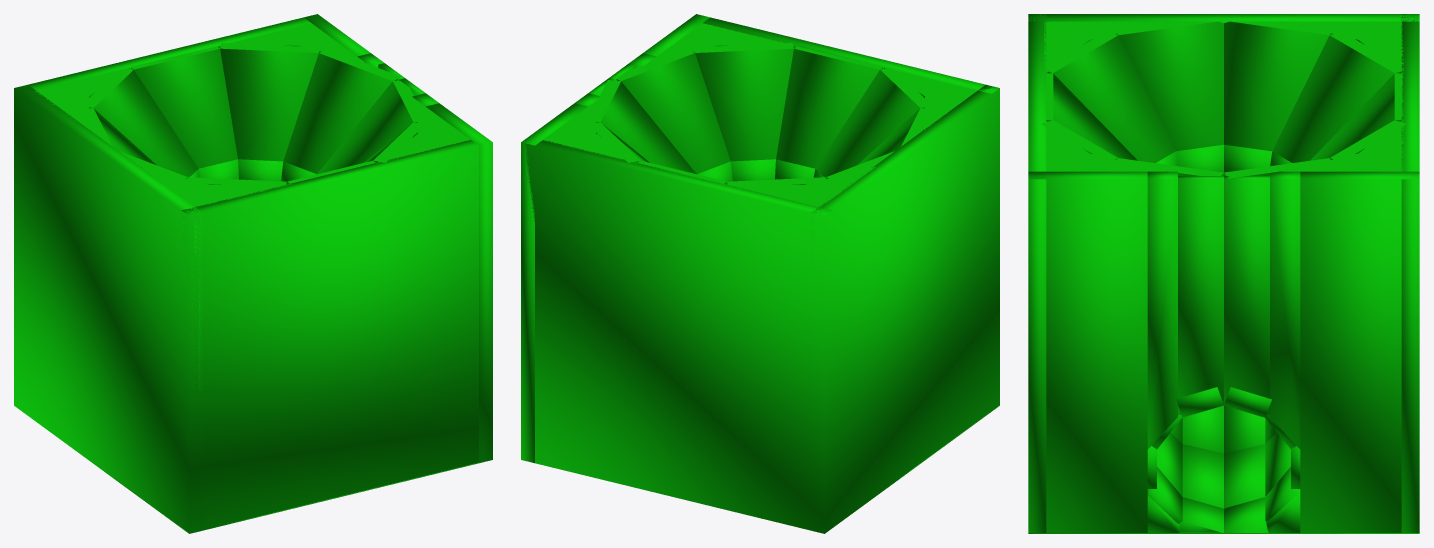
The model's file is UCXKugelbahn.40.fbx.
3 views of the same model, side by side, from view 1: azimuth 30°, elevation 25°; view 2: azimuth 150°, elevation 25°; view 3: azimuth 270°, elevation 25° (orthographic). The views are drawn at different scales.
Parts seen in each view (by area): view 1: UCX_Kugelbahn.40_low; view 2: UCX_Kugelbahn.40_low; view 3: UCX_Kugelbahn.40_low.
Part boxes in pixels (x1,y1,x2,y2): UCX_Kugelbahn.40_low: (14, 14, 492, 533); UCX_Kugelbahn.40_low: (521, 14, 999, 533); UCX_Kugelbahn.40_low: (1028, 14, 1419, 533).
Size of the model in its own units: 0.05 by 0.05 by 0.05.
